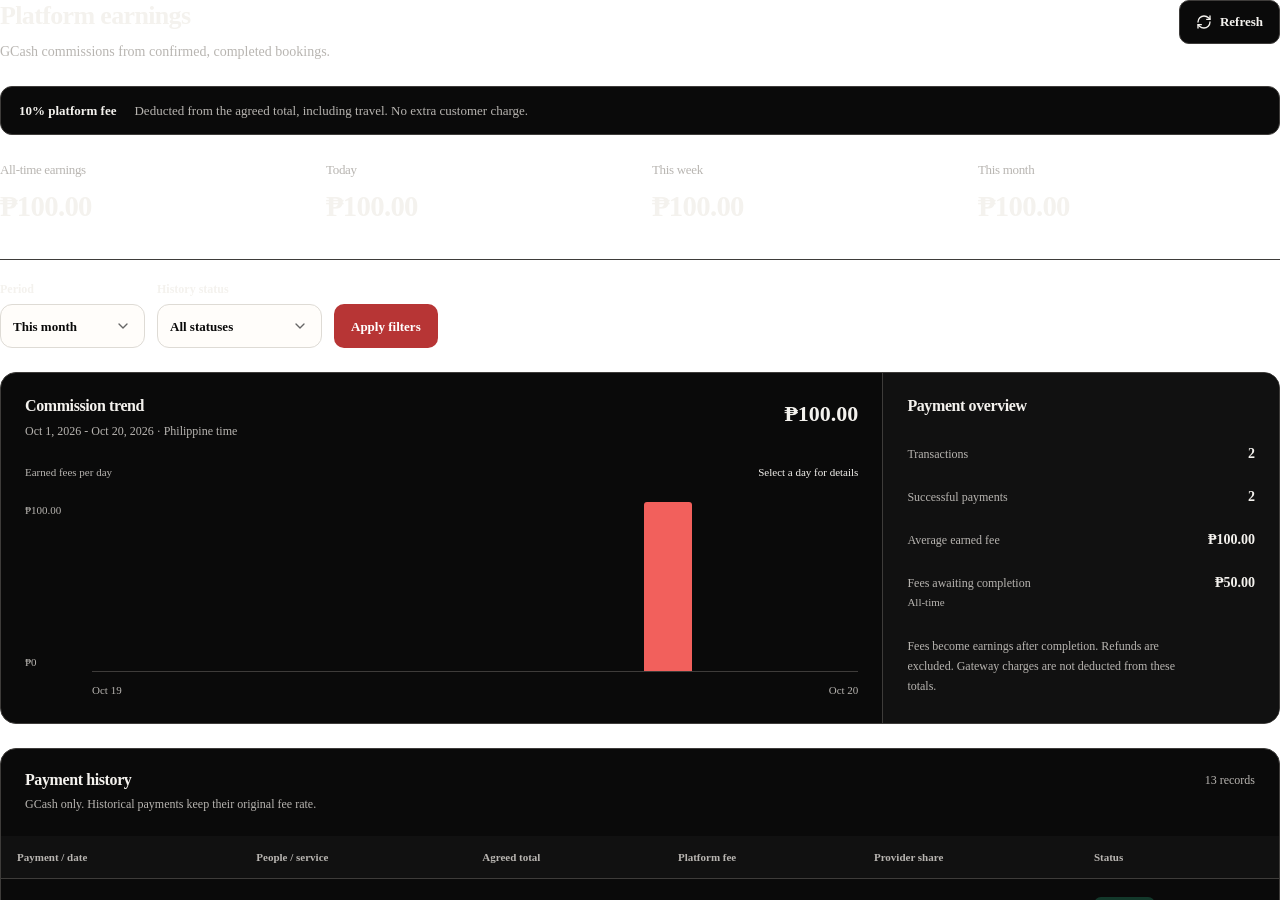
Test case: admin GCash earnings › validates custom dates without sending an invalid query
The width and height of the screenshot is (1280, 900).
Select "Custom dates" in the dropdown labelled "Period" at [72, 326], box left=0, top=304, right=145, bottom=348
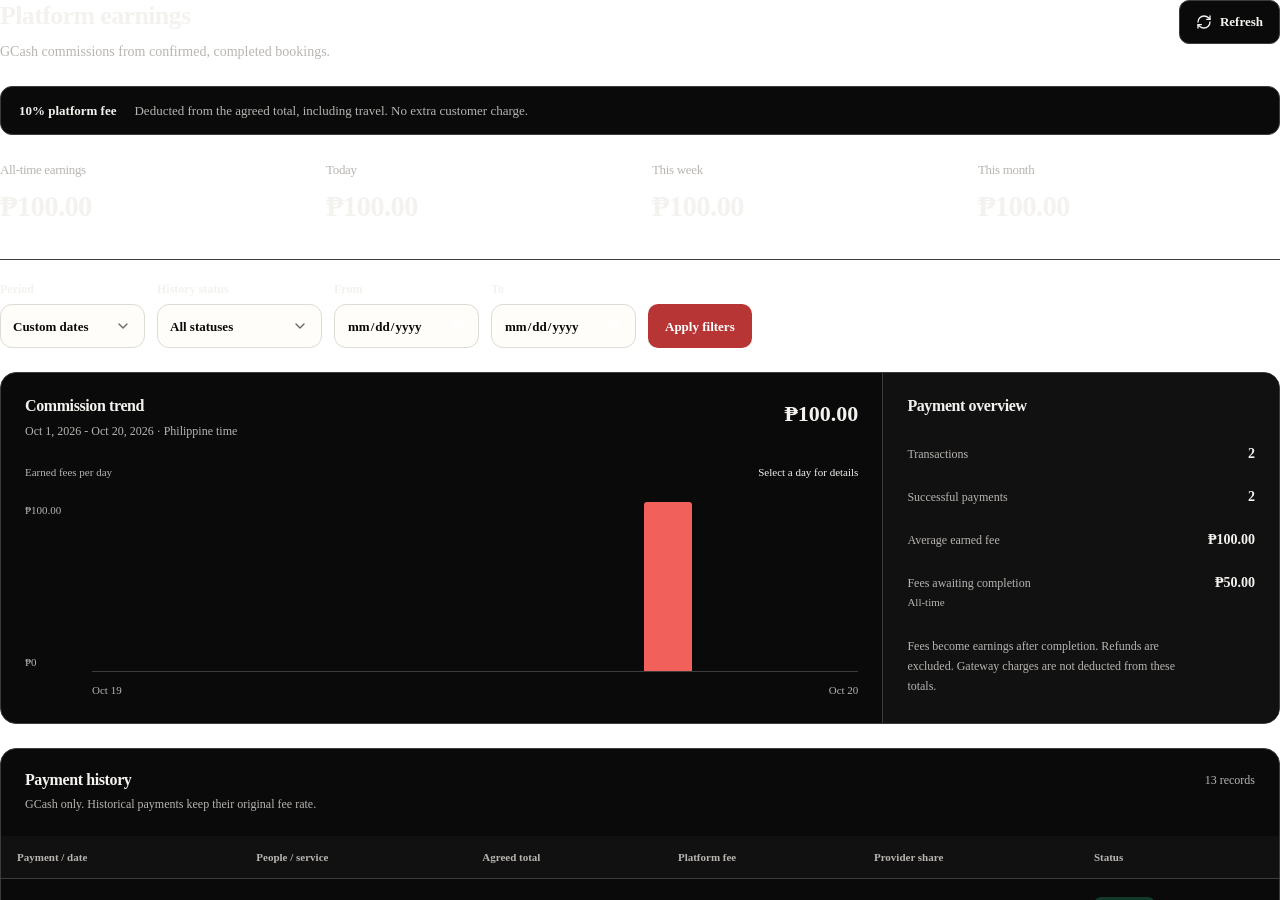
Type "2026-10-21" into the date field labelled "From" at [406, 326], box left=334, top=304, right=479, bottom=348
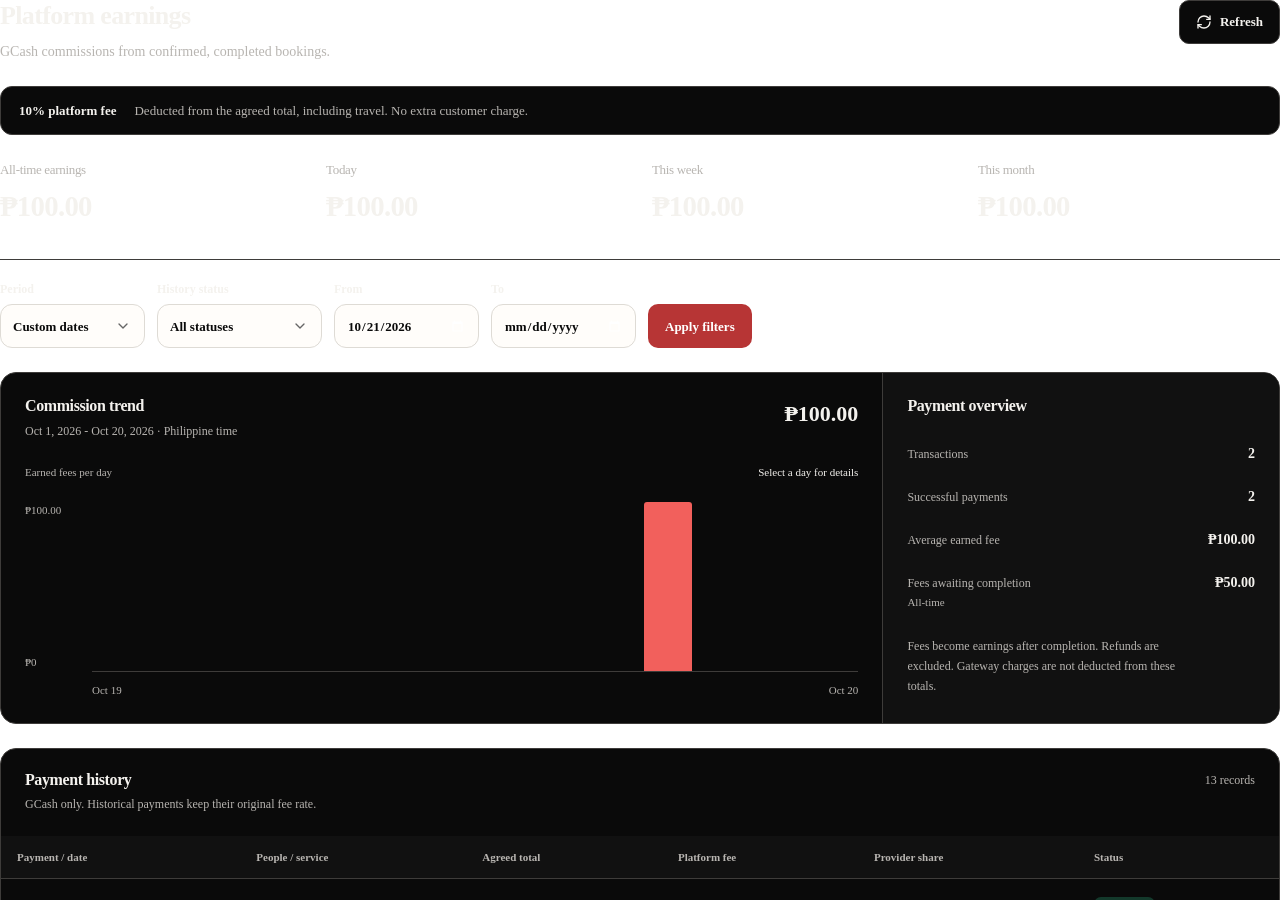
Type "2026-10-20" into the date field labelled "To" at [564, 326], box left=491, top=304, right=636, bottom=348
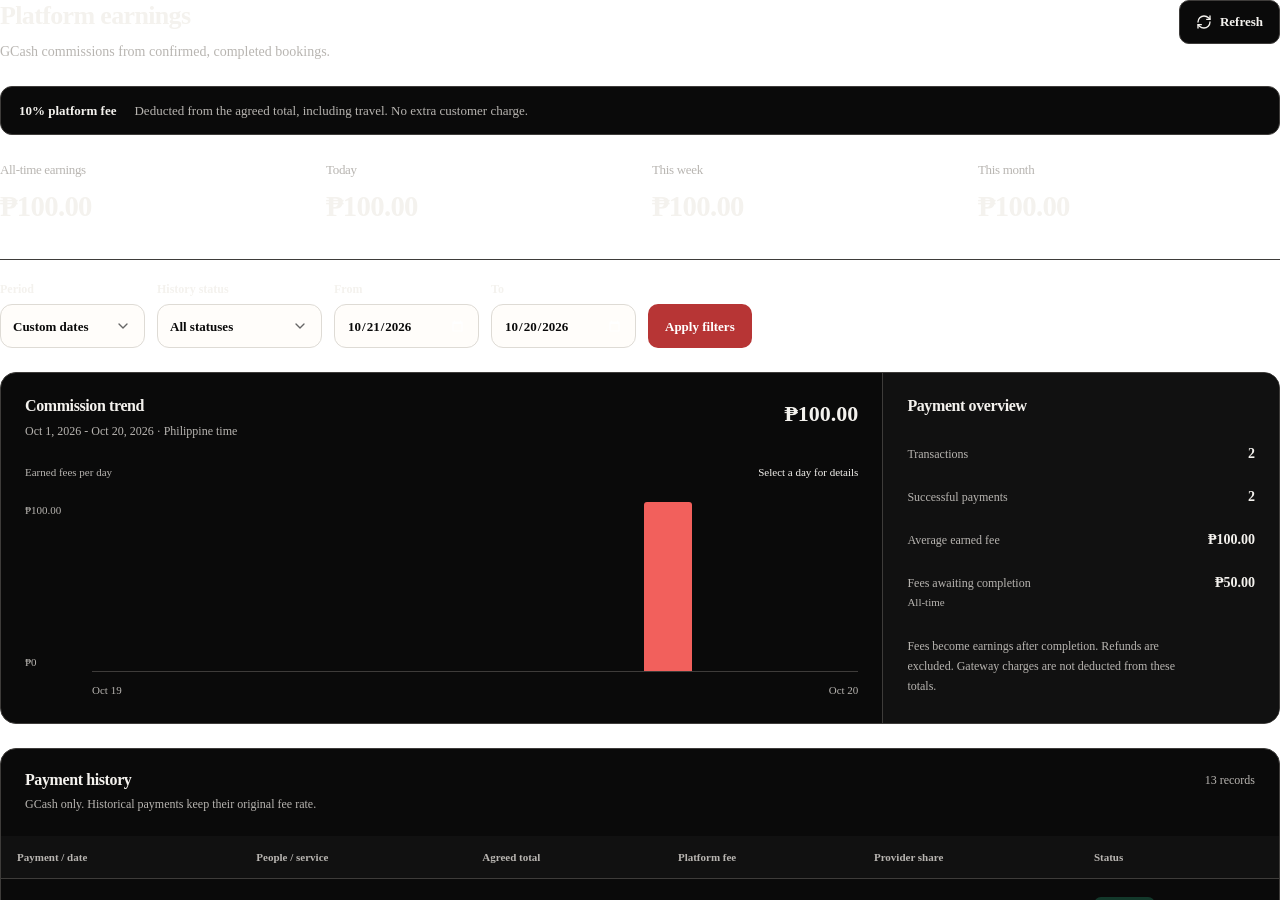
Submit the form named "Filter earnings", box left=0, top=259, right=1279, bottom=348
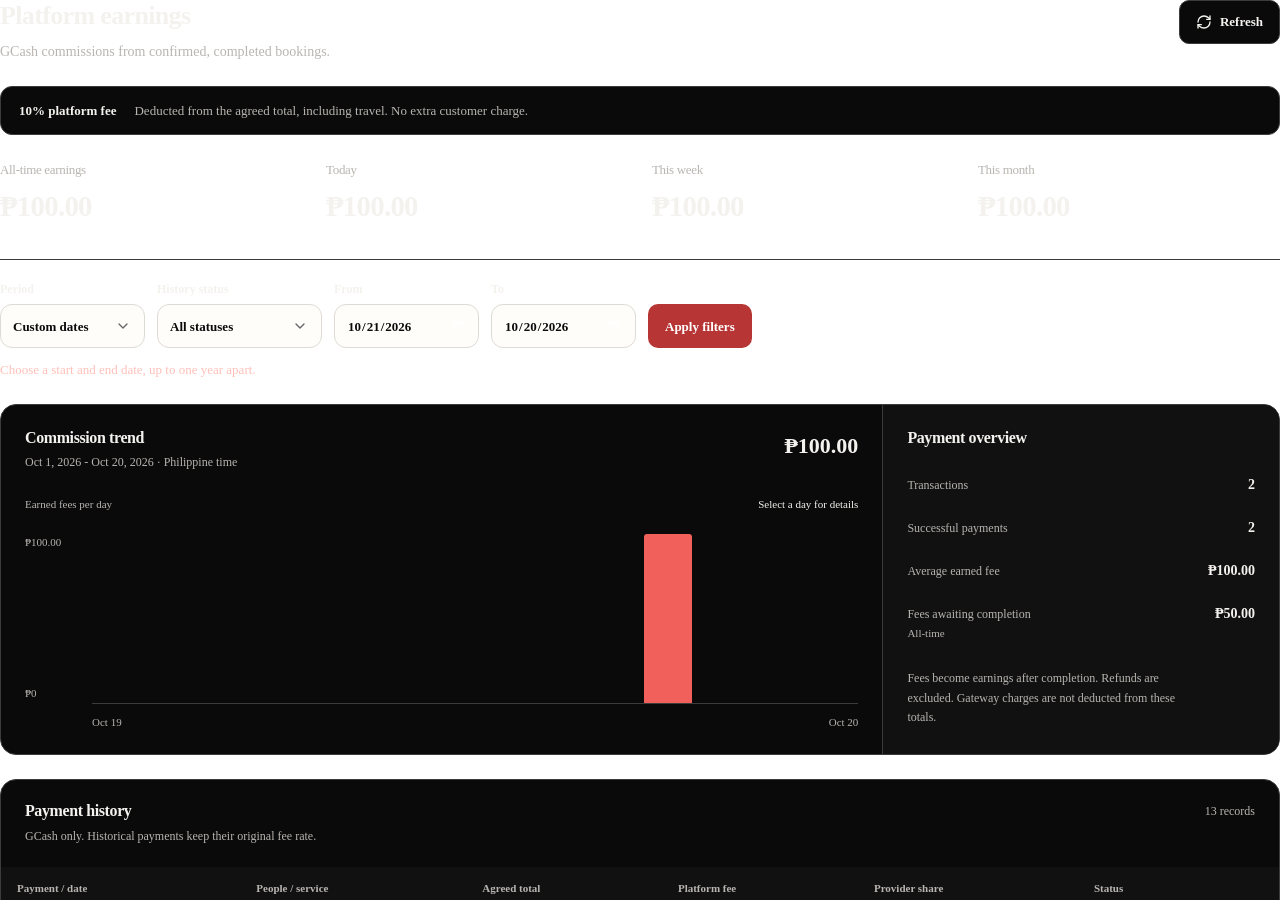
Result: the message shows "Choose a start and end date" at left=0, top=362, right=256, bottom=377
